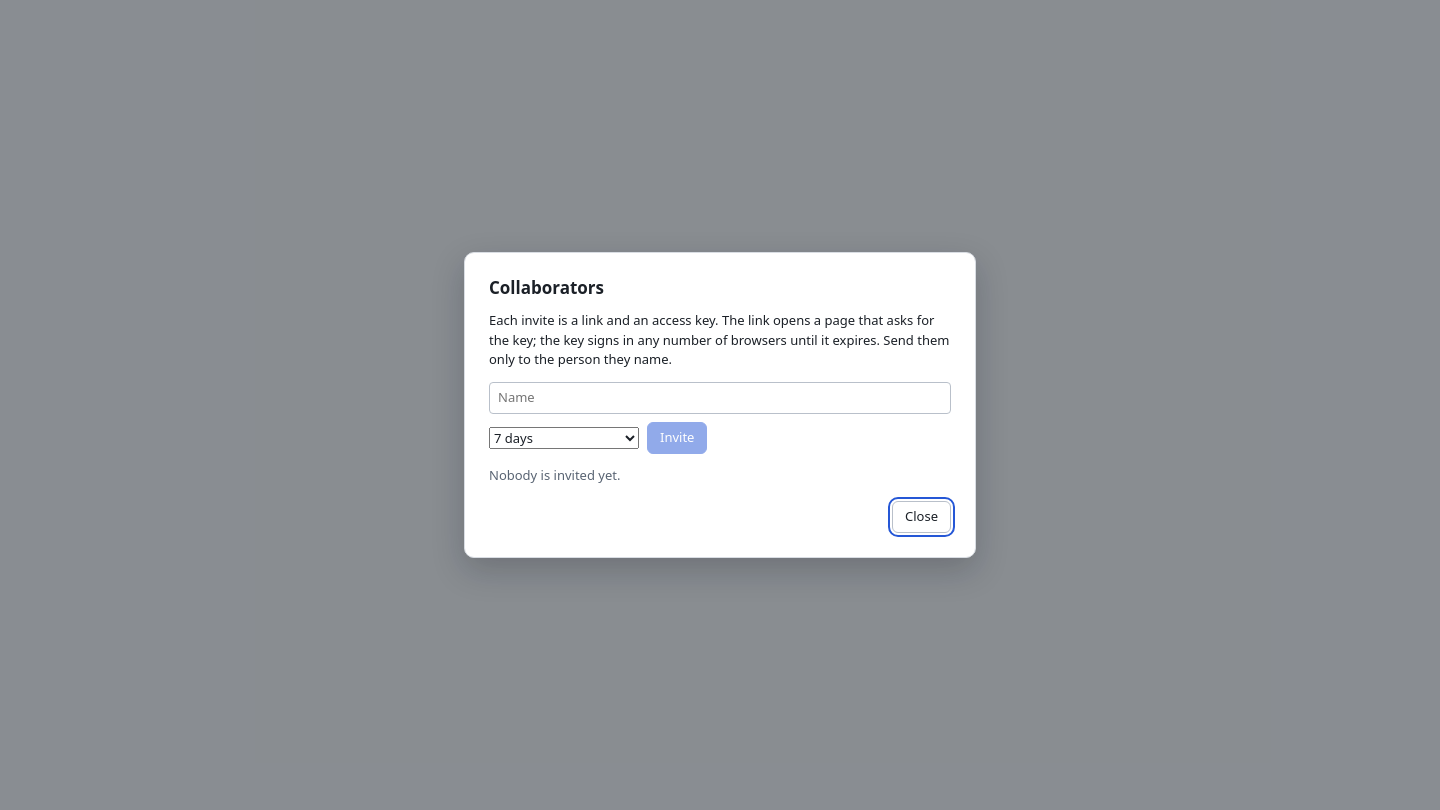
CollaboratorsDialog › invites by name for the lifetime chosen, shows the link and the key once, each with a copy button, and the expiry
expect the text "Nobody is invited yet." is shown: met, box 489,466 -> 620,484
Type "Bo" into the field labelled "Name".
click(720, 398); type("Bo")  # box 489,382 -> 951,414
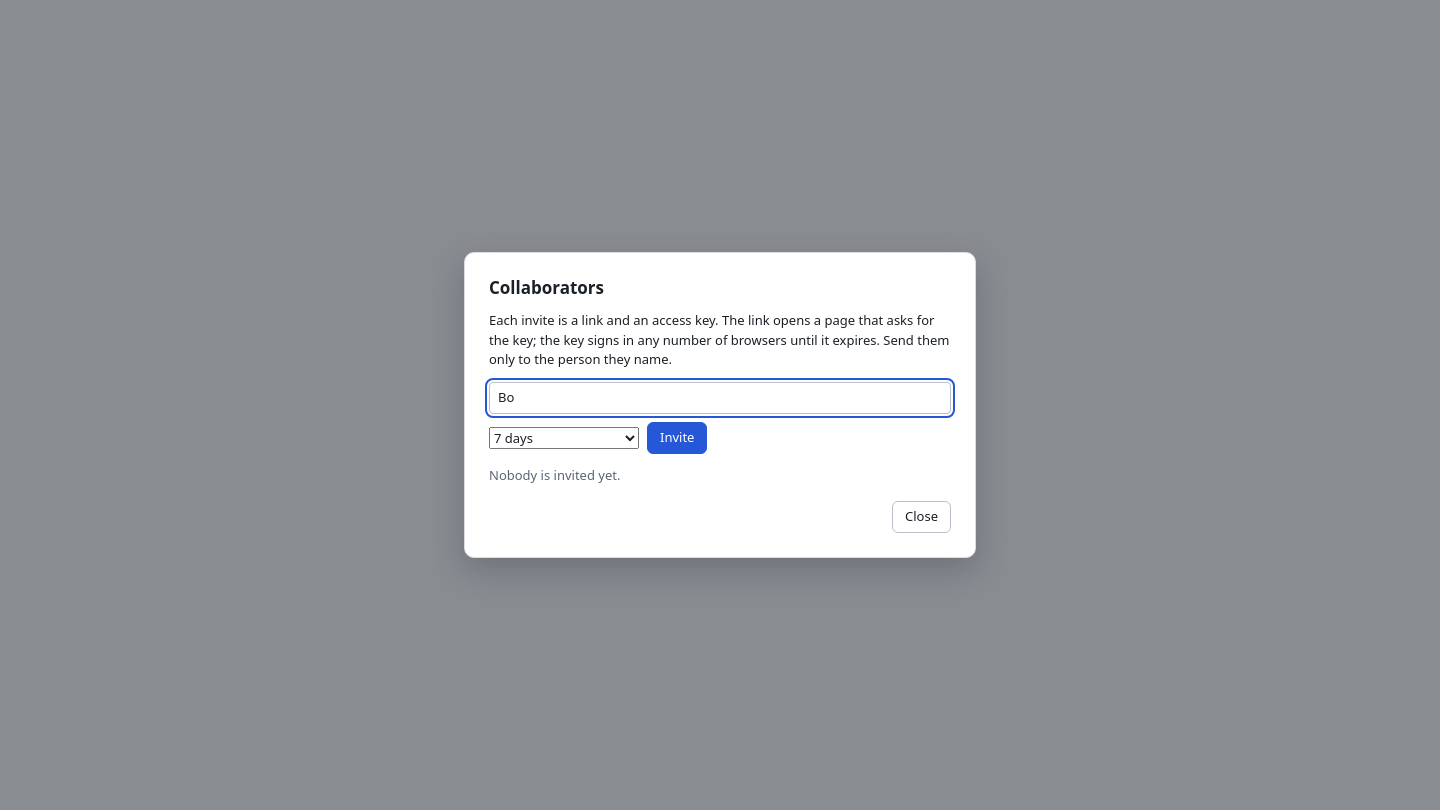
Select "1 day" in the dropdown named "Key lasts" at (564, 438), box 489,426 -> 639,448
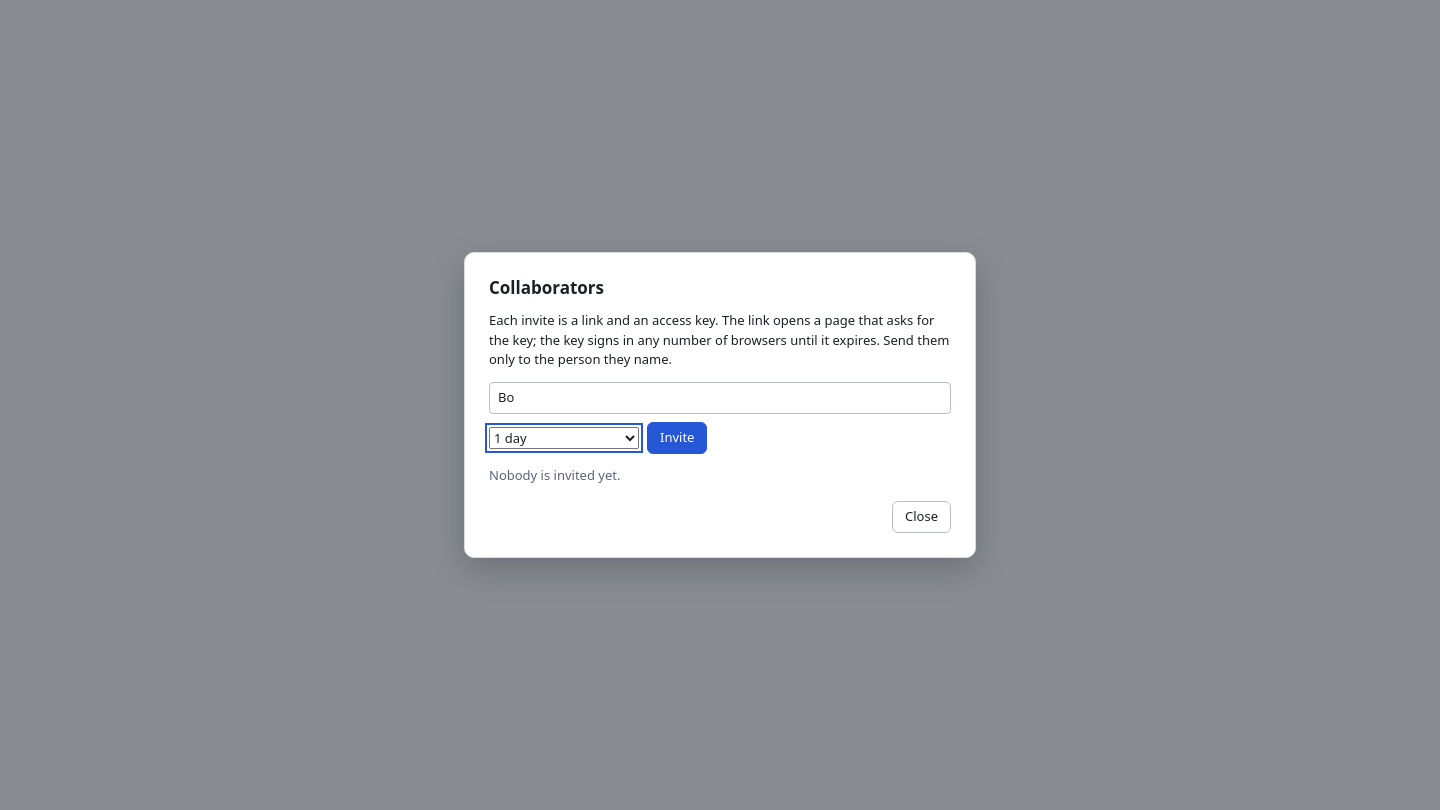
Click the button "Invite".
click(677, 438)  # box 647,422 -> 707,454
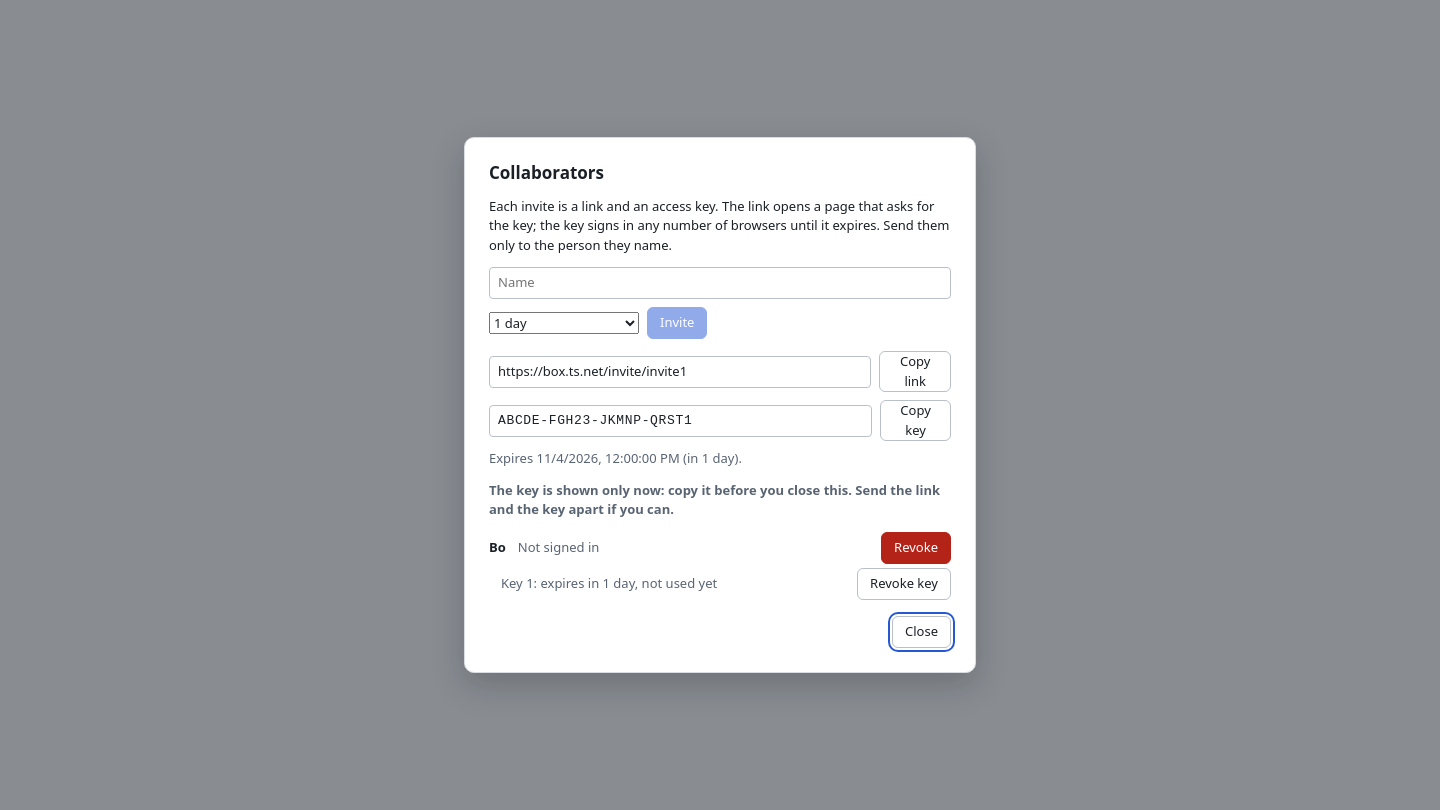
expect the field named "Invite link for Bo" holds "https://box.ts.net/invite/invite1": met, box 489,356 -> 871,388
expect the field named "Access key for Bo" holds "ABCDE-FGH23-JKMNP-QRST1": met, box 489,404 -> 872,436
expect the text "The key is shown only now" is shown: met, box 489,480 -> 940,518
Click the button "Copy link".
click(915, 372)  # box 879,351 -> 951,392
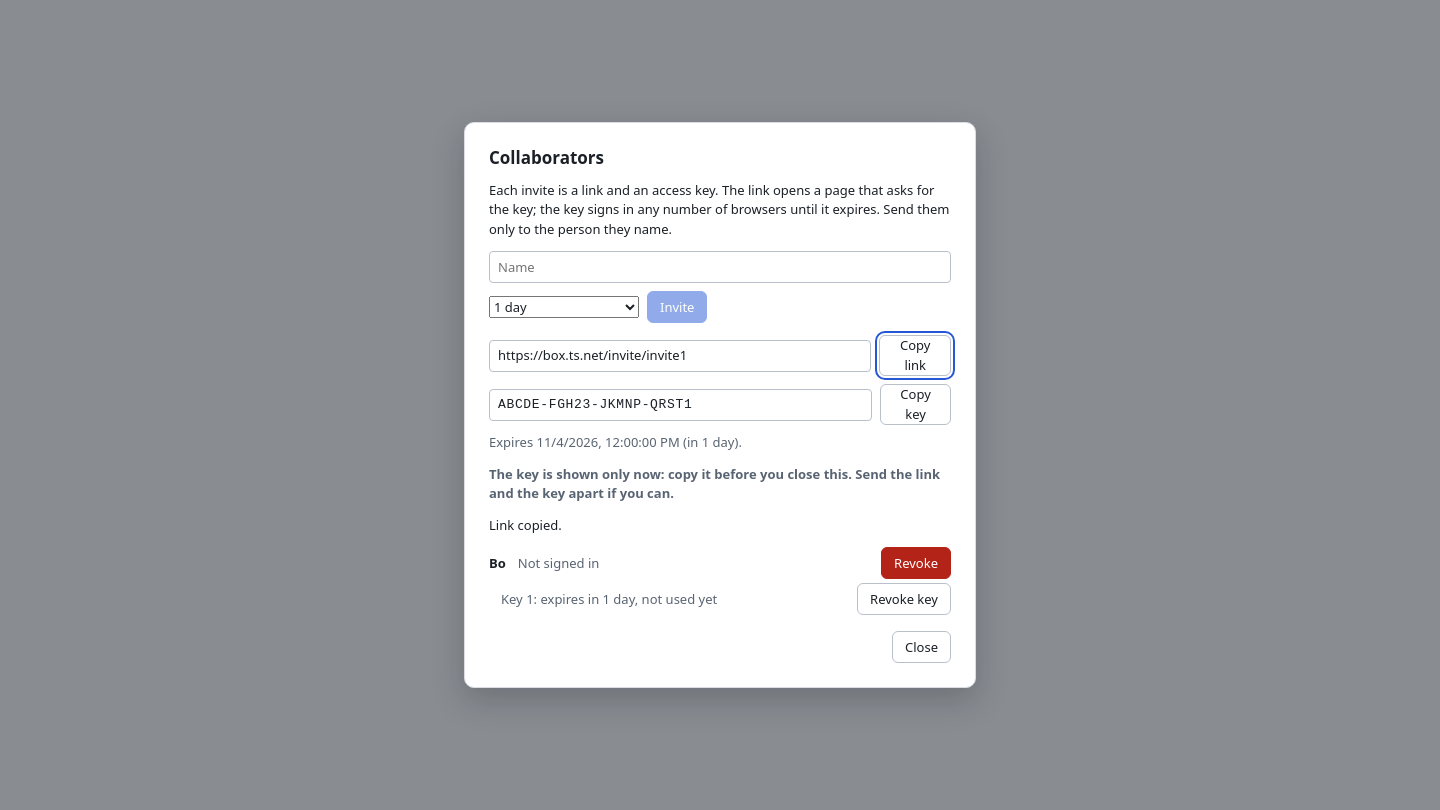
expect the text "Link copied." is shown: met, box 489,516 -> 562,534
Click the button "Copy key".
click(916, 405)  # box 880,384 -> 951,425
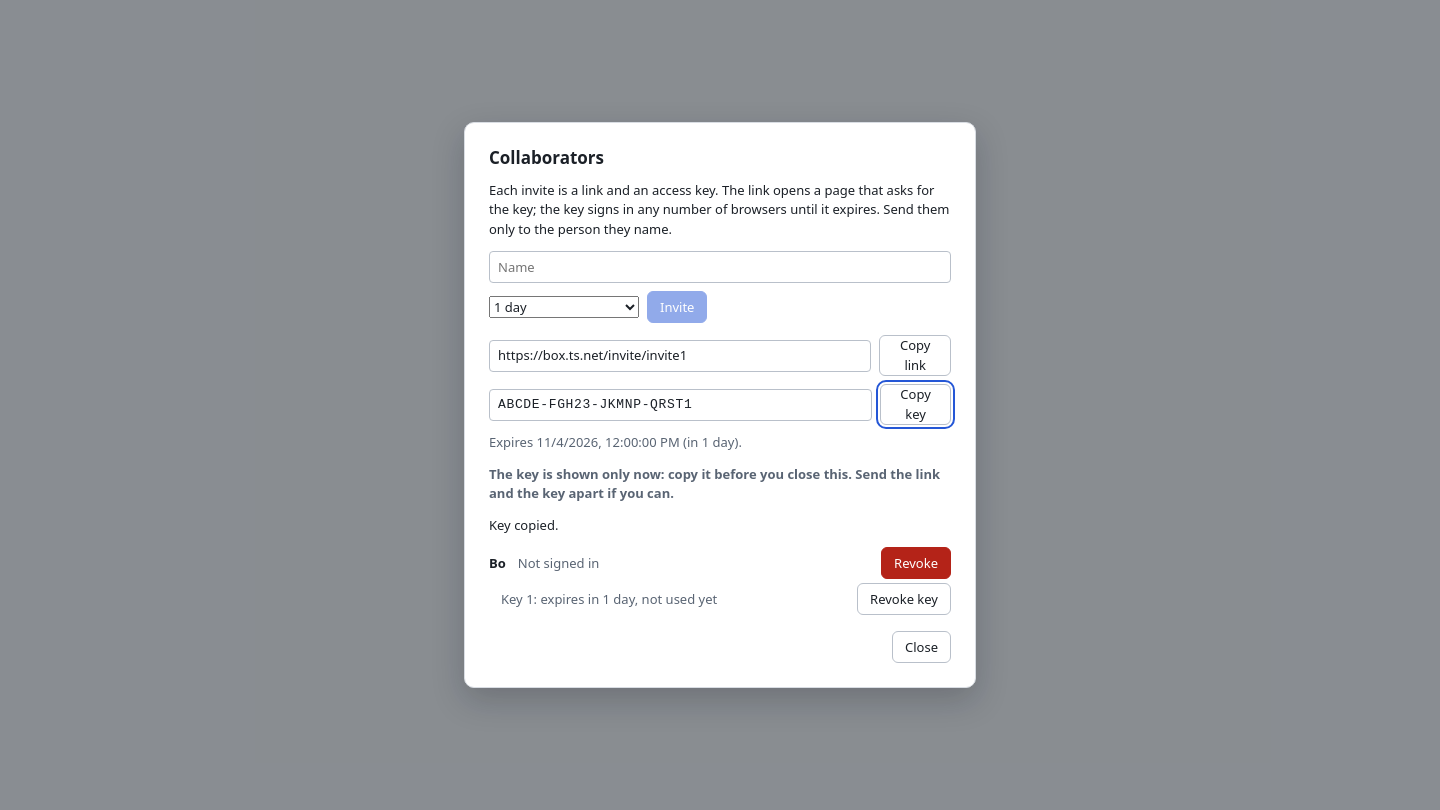
expect the text "Key 1: expires in 1 day, not used yet" is shown: met, box 501,590 -> 717,608
expect the text "Key copied." is shown: met, box 489,516 -> 558,534
